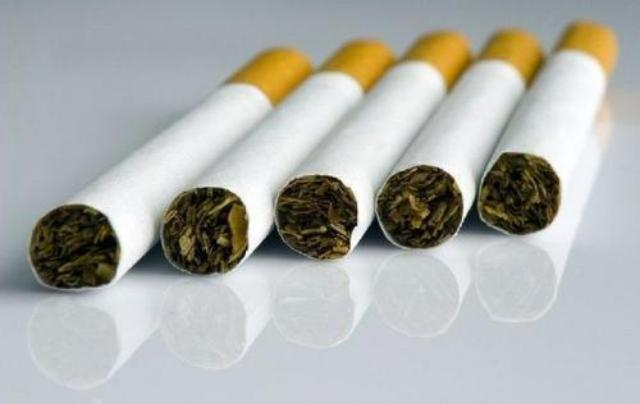Smoking: (29, 48, 314, 292), (161, 38, 399, 276), (275, 32, 475, 262), (375, 27, 545, 251), (478, 21, 618, 237)
